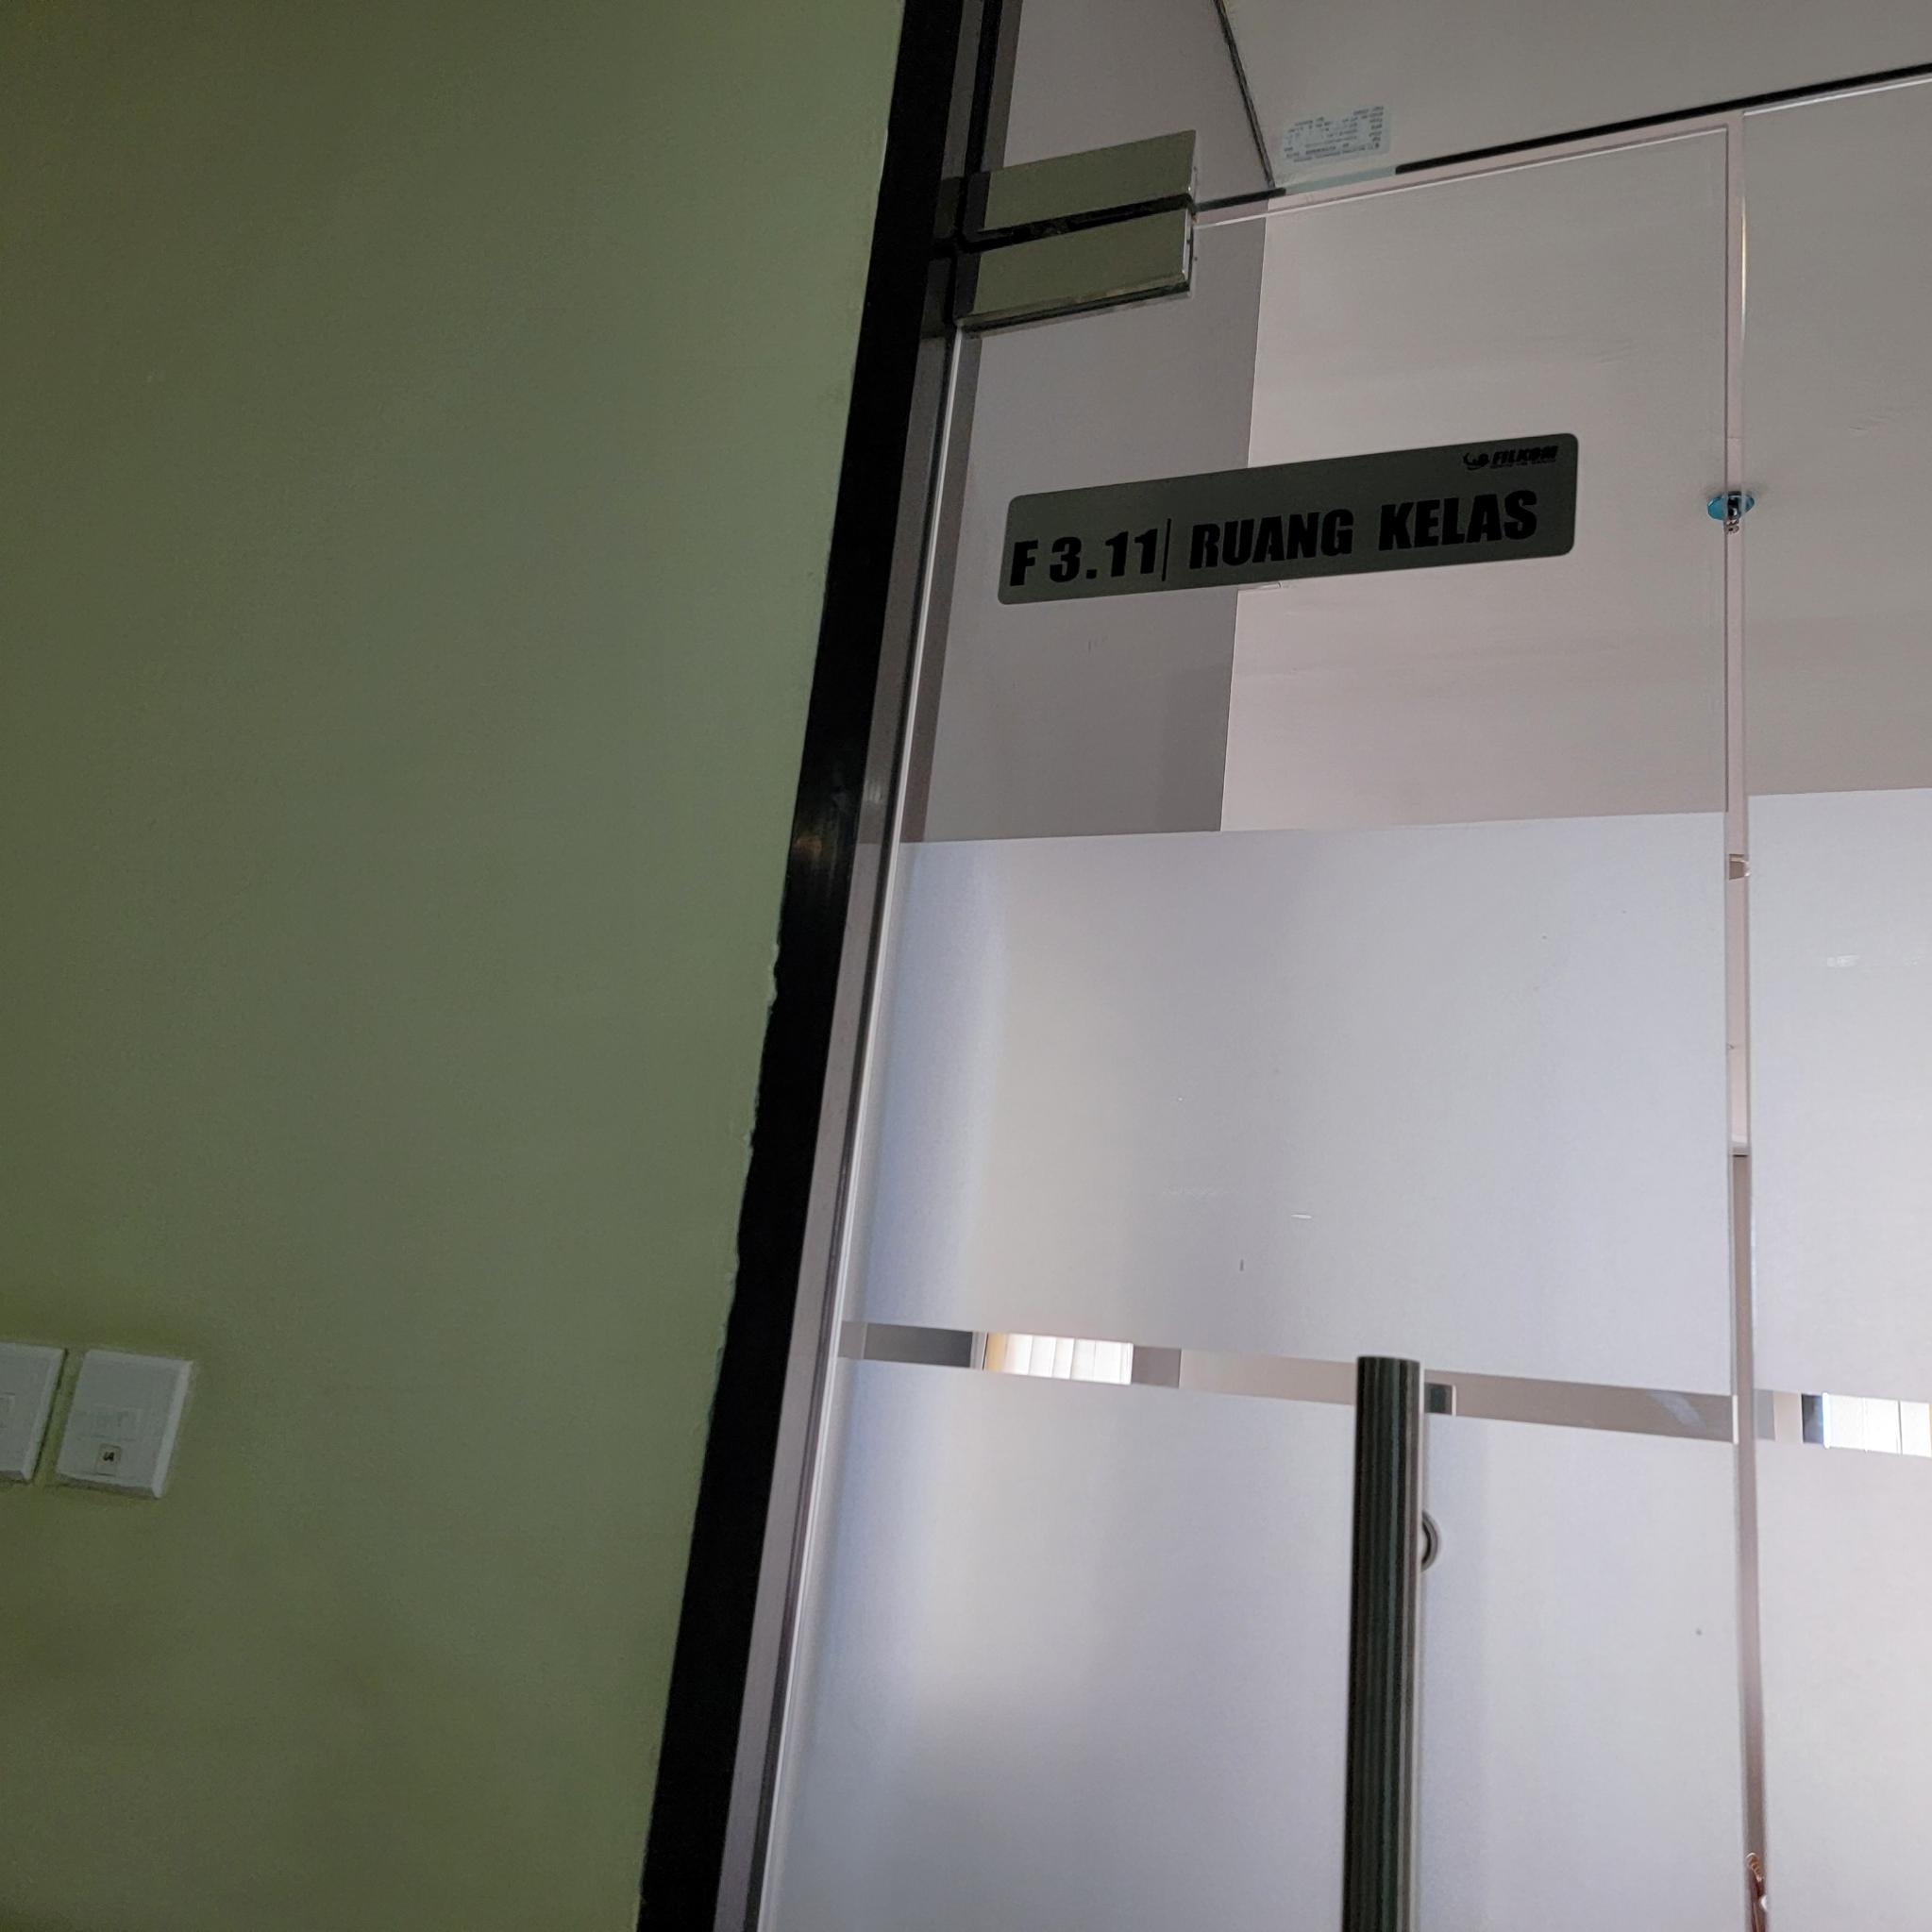plate: (998, 432, 1580, 607)
